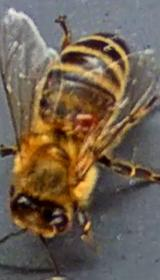varroa_mite: (68, 103, 105, 141)
